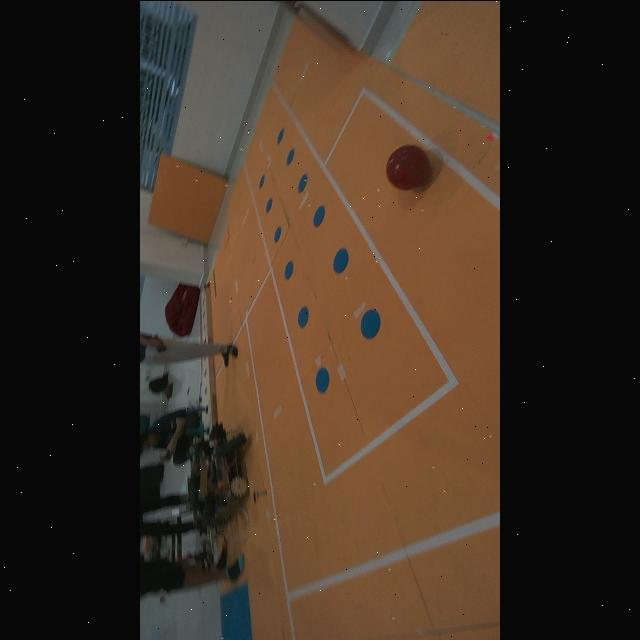R: (386, 144, 430, 189)
